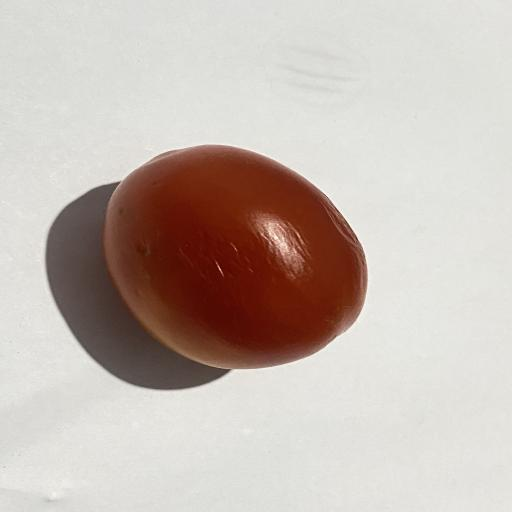spoiled: (104, 145, 367, 368)
